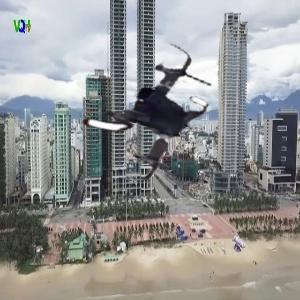drone: (66, 32, 221, 187)
